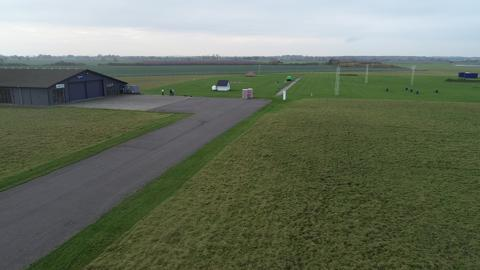RockwoolPallet: (247, 88, 254, 99)
